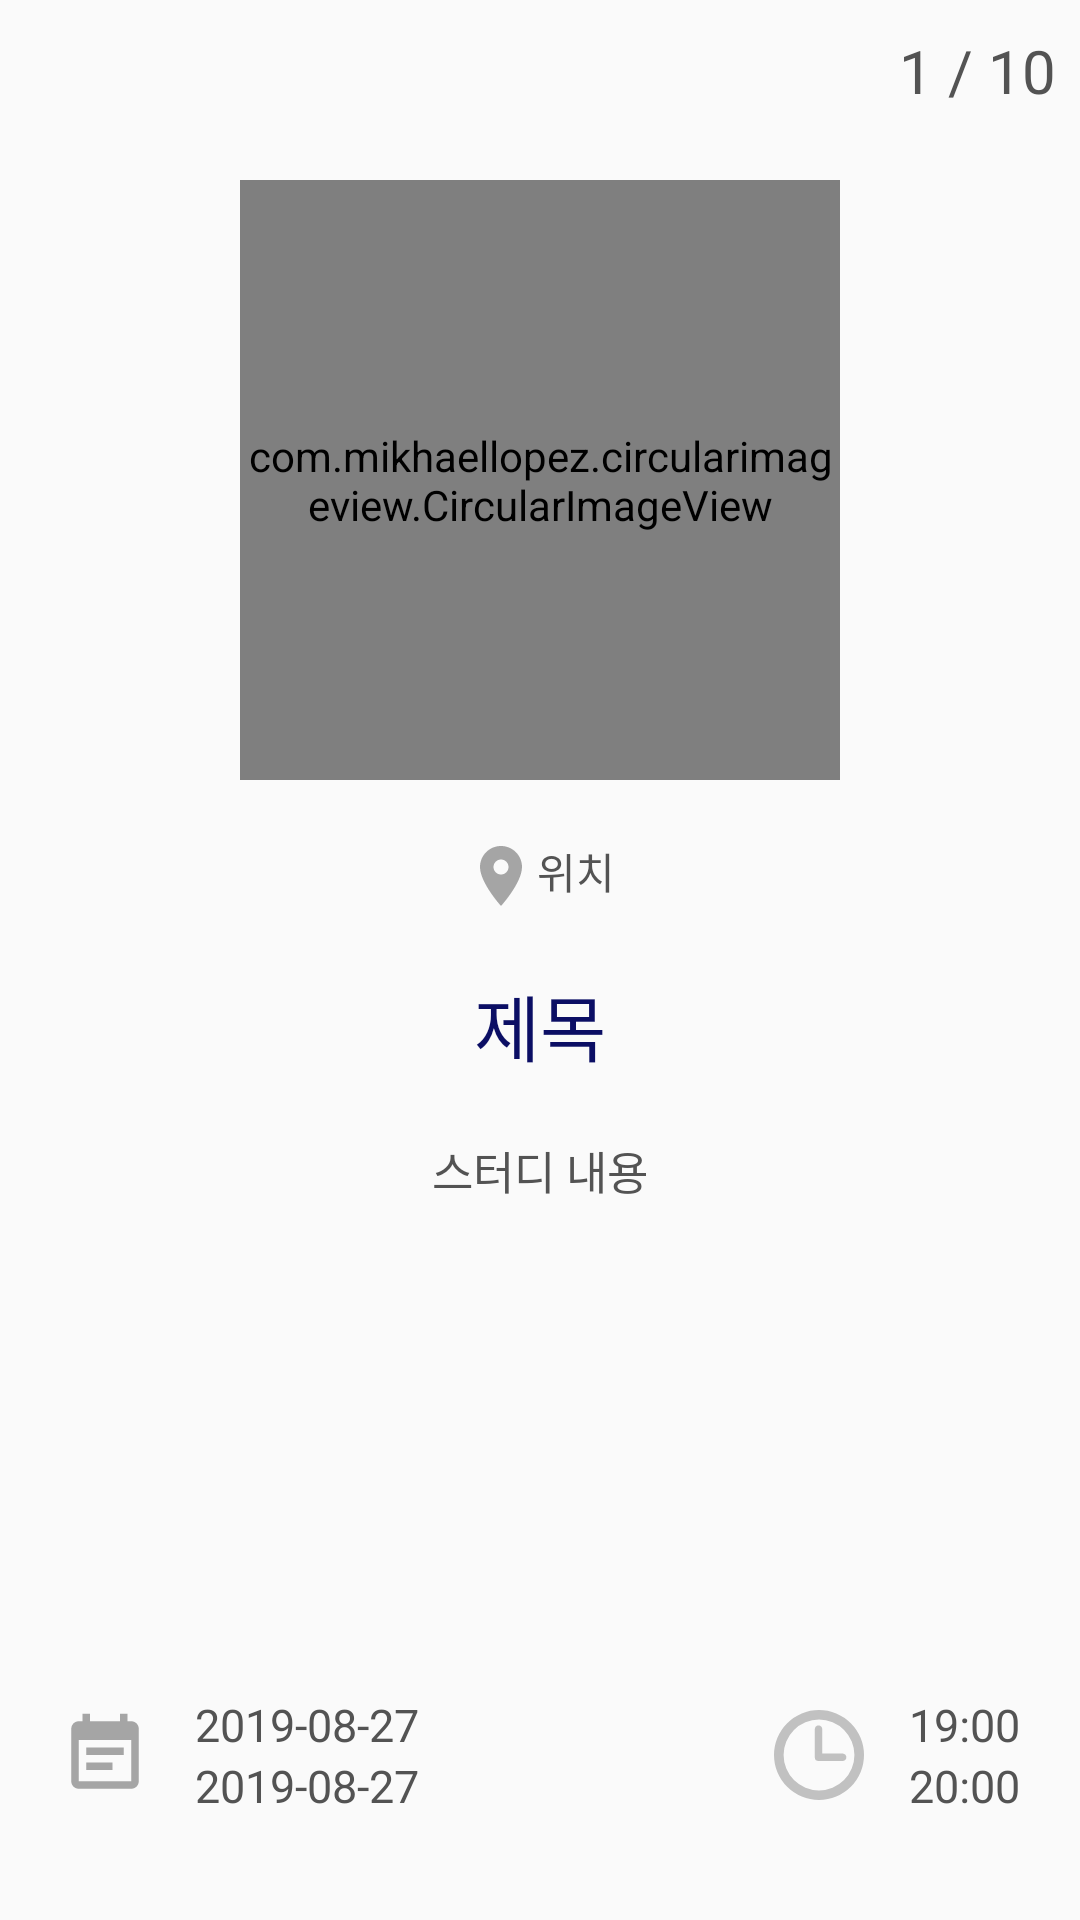

Point at icon controls on the screen. Image size 1080 × 1920, points as (x=x, y=y).
clock: (x=819, y=1755)
event note: (x=105, y=1751)
